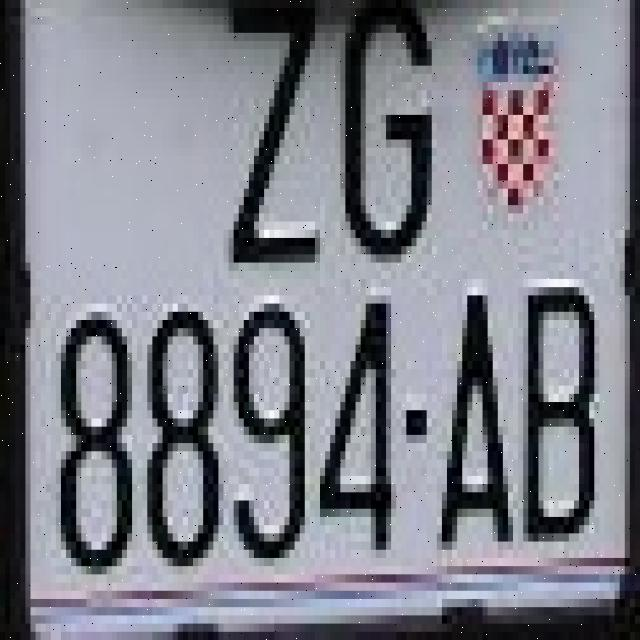4: (317, 291, 399, 562)
8: (53, 304, 135, 574), (145, 300, 221, 570)
9: (228, 296, 310, 566)
A: (434, 283, 516, 554)
B: (521, 279, 602, 550)
G: (333, 0, 444, 263)
Z: (213, 8, 325, 271)
